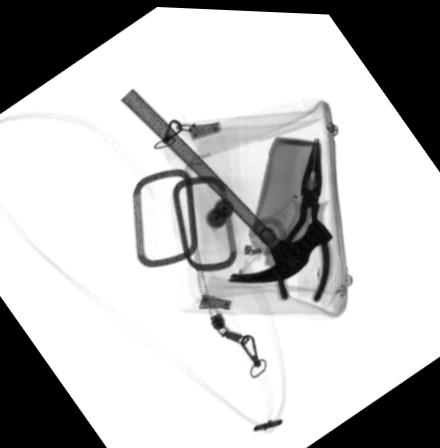Hammer: (120, 85, 334, 280)
Pliers: (274, 133, 333, 299)
